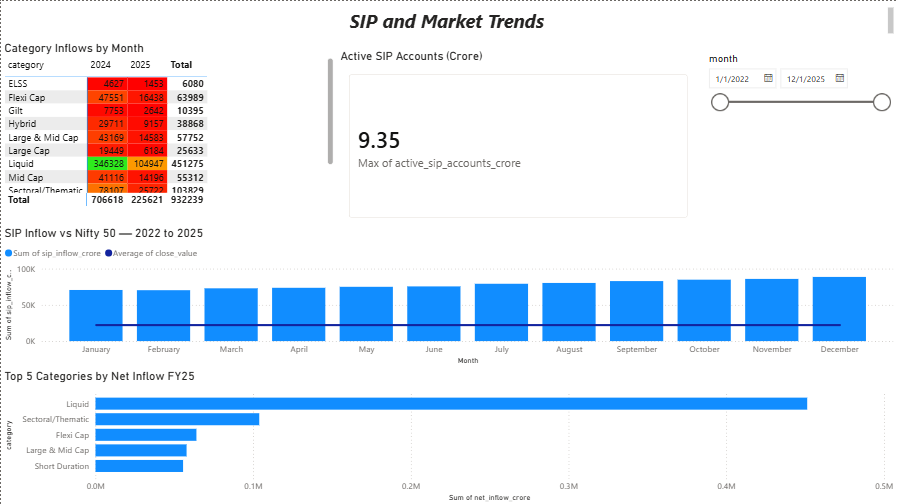

The dashboard page shown, as its layout file describes it:
{"tool":"powerbi","page":{"name":"SIP & Market Trends","canvas":[1280,720],"ordinal":3},"visuals":[{"type":"lineClusteredColumnComboChart","title":"SIP Inflow vs Nifty 50 — 2022 to 2025","fields":{"Category":["clean_sip_inflows.month.Variation.Date Hierarchy.Month"],"Y":["Sum(clean_sip_inflows.sip_inflow_crore)"],"Y2":["Avg(clean_benchmark_indices.close_value)"]},"box":[0,322,1280.5,203.4],"z":0},{"type":"pivotTable","title":"Category Inflows by Month","fields":{"Rows":["clean_category_inflows.category"],"Columns":["clean_category_inflows.month.Variation.Date Hierarchy.Year","clean_category_inflows.month.Variation.Date Hierarchy.Quarter","clean_category_inflows.month.Variation.Date Hierarchy.Month","clean_category_inflows.month.Variation.Date Hierarchy.Day"],"Values":["Sum(clean_category_inflows.net_inflow_crore)"]},"box":[0,57.8,480.3,240.9],"z":1000},{"type":"clusteredBarChart","title":"Top 5 Categories by Net Inflow FY25","fields":{"Category":["clean_category_inflows.category"],"Y":["Sum(clean_category_inflows.net_inflow_crore)"]},"box":[0,525.4,1280.5,194.6],"z":2000},{"type":"cardVisual","title":"Active SIP Accounts (Crore)","fields":{"Data":["Max(clean_sip_inflows.active_sip_accounts_crore)"]},"box":[480.3,68.8,518.9,258.8],"z":3000},{"type":"slicer","fields":{"Values":["clean_sip_inflows.month"]},"box":[999.2,68.8,280.8,236.7],"z":4000},{"type":"textbox","box":[0,4.1,1280,53.7],"z":5000}]}

Visuals, with their boxes in screenshot pixels (x1, y1, x2, y2), scaled from the page's 1280x720 canvas onto the 897x504 screenshot:
"SIP Inflow vs Nifty 50 — 2022 to 2025" lineClusteredColumnComboChart: [0, 225, 896, 368]
"Category Inflows by Month" pivotTable: [0, 40, 337, 209]
"Top 5 Categories by Net Inflow FY25" clusteredBarChart: [0, 368, 896, 503]
"Active SIP Accounts (Crore)" cardVisual: [337, 48, 700, 229]
slicer - clean_sip_inflows.month: [700, 48, 896, 214]
textbox: [0, 3, 896, 40]
